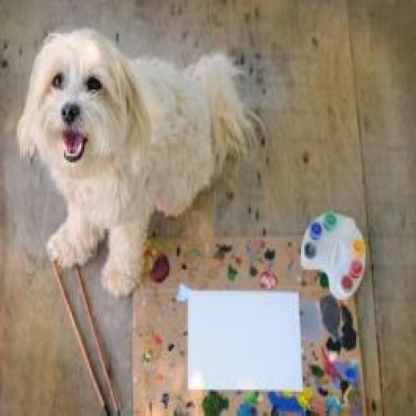maltese: (10, 27, 257, 298)
